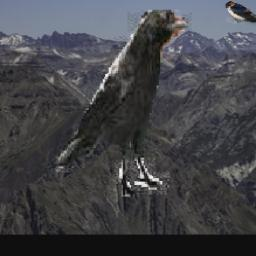Crow: (54, 10, 192, 197)
Swallow: (224, 2, 256, 28)
